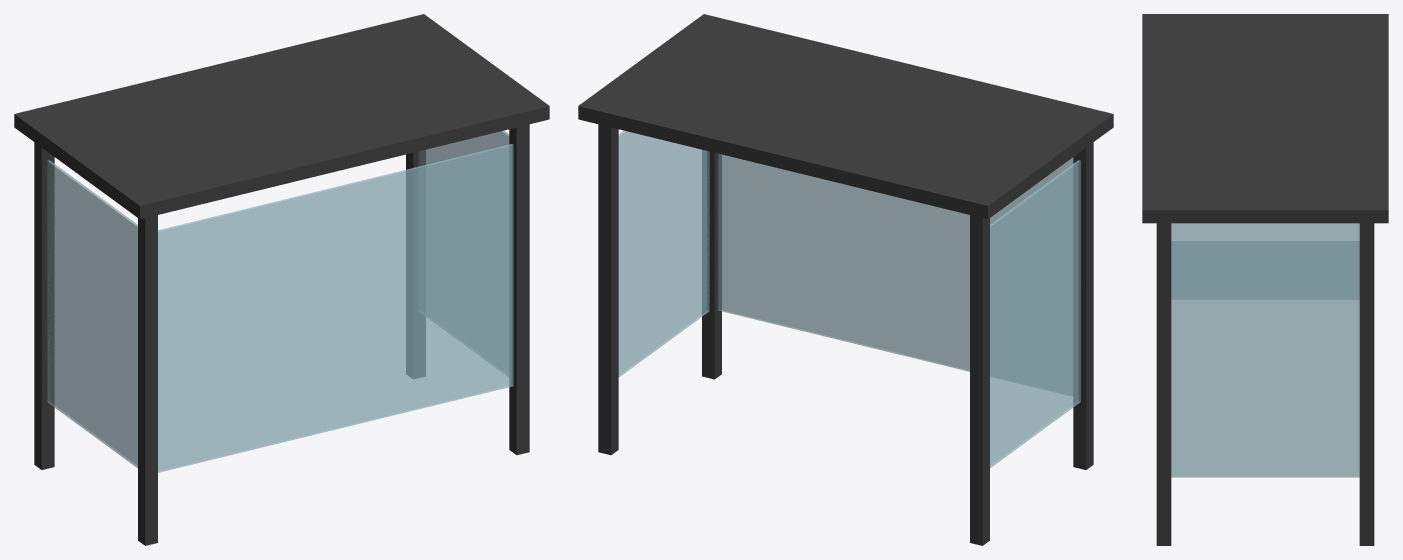
Rendered from bus_stop_002.obj.
3 renders of one model, left to right at view 1: azimuth 30°, elevation 25°; view 2: azimuth 150°, elevation 25°; view 3: azimuth 270°, elevation 25°, orthographic.
Parts seen in each view (by area): view 1: bus_stop; view 2: bus_stop; view 3: bus_stop.
Part boxes in pixels (x1,y1,x2,y2): bus_stop: [14, 14, 549, 545]; bus_stop: [578, 14, 1113, 545]; bus_stop: [1142, 14, 1388, 545].
Size of the model in its own units: 3.2 by 2.6 by 1.7.
